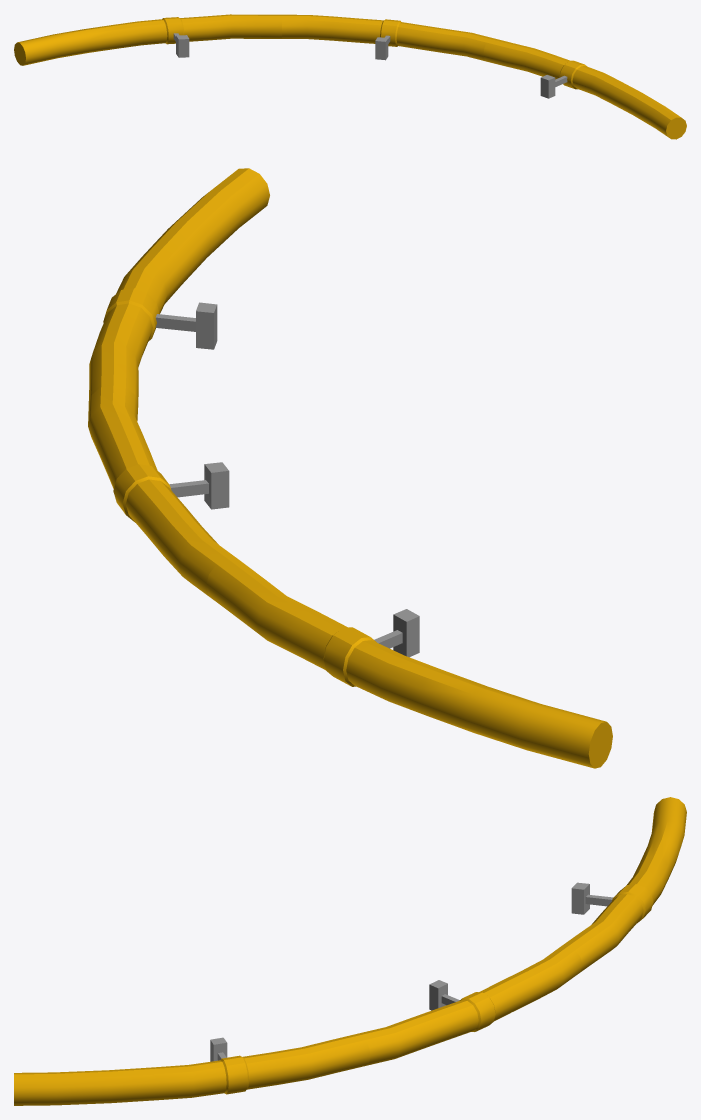
The model's file is RailTubeConvex.fbx.
3 views of the same model, one above another, from view 1: azimuth 30°, elevation 25°; view 2: azimuth 150°, elevation 25°; view 3: azimuth 270°, elevation 25° (orthographic). The views are drawn at different scales.
Parts seen in each view (by area): view 1: RailTubeConvex; view 2: RailTubeConvex; view 3: RailTubeConvex.
Boxes of the visible parts, <box> form: RailTubeConvex: <box>14,14,686,139</box>; RailTubeConvex: <box>88,168,612,768</box>; RailTubeConvex: <box>14,797,686,1105</box>.
Size of the model in its own units: 214 by 11.55 by 214.
